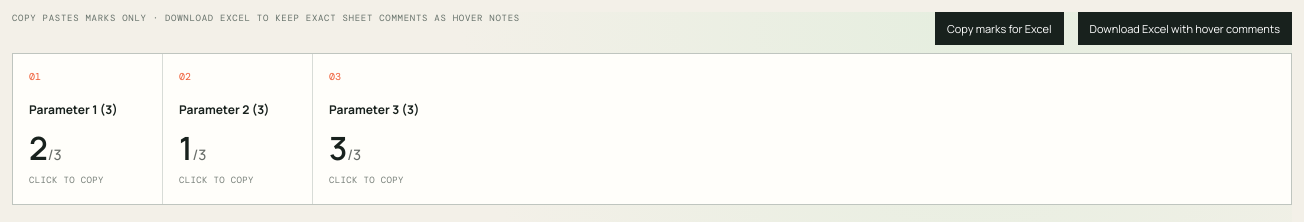
Test: Excel-ready score copying › copies only the horizontal numeric marks
Click the button "Copy marks for Excel" at (999, 28), box [935,12,1064,45]
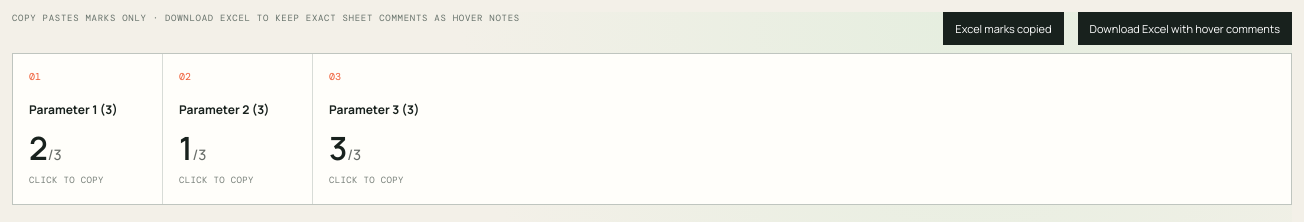
Expected: the button "Download Excel with hover comments" is shown, [1078,12,1292,45]
Result: the button "Excel marks copied" is shown at [943,12,1064,45]
